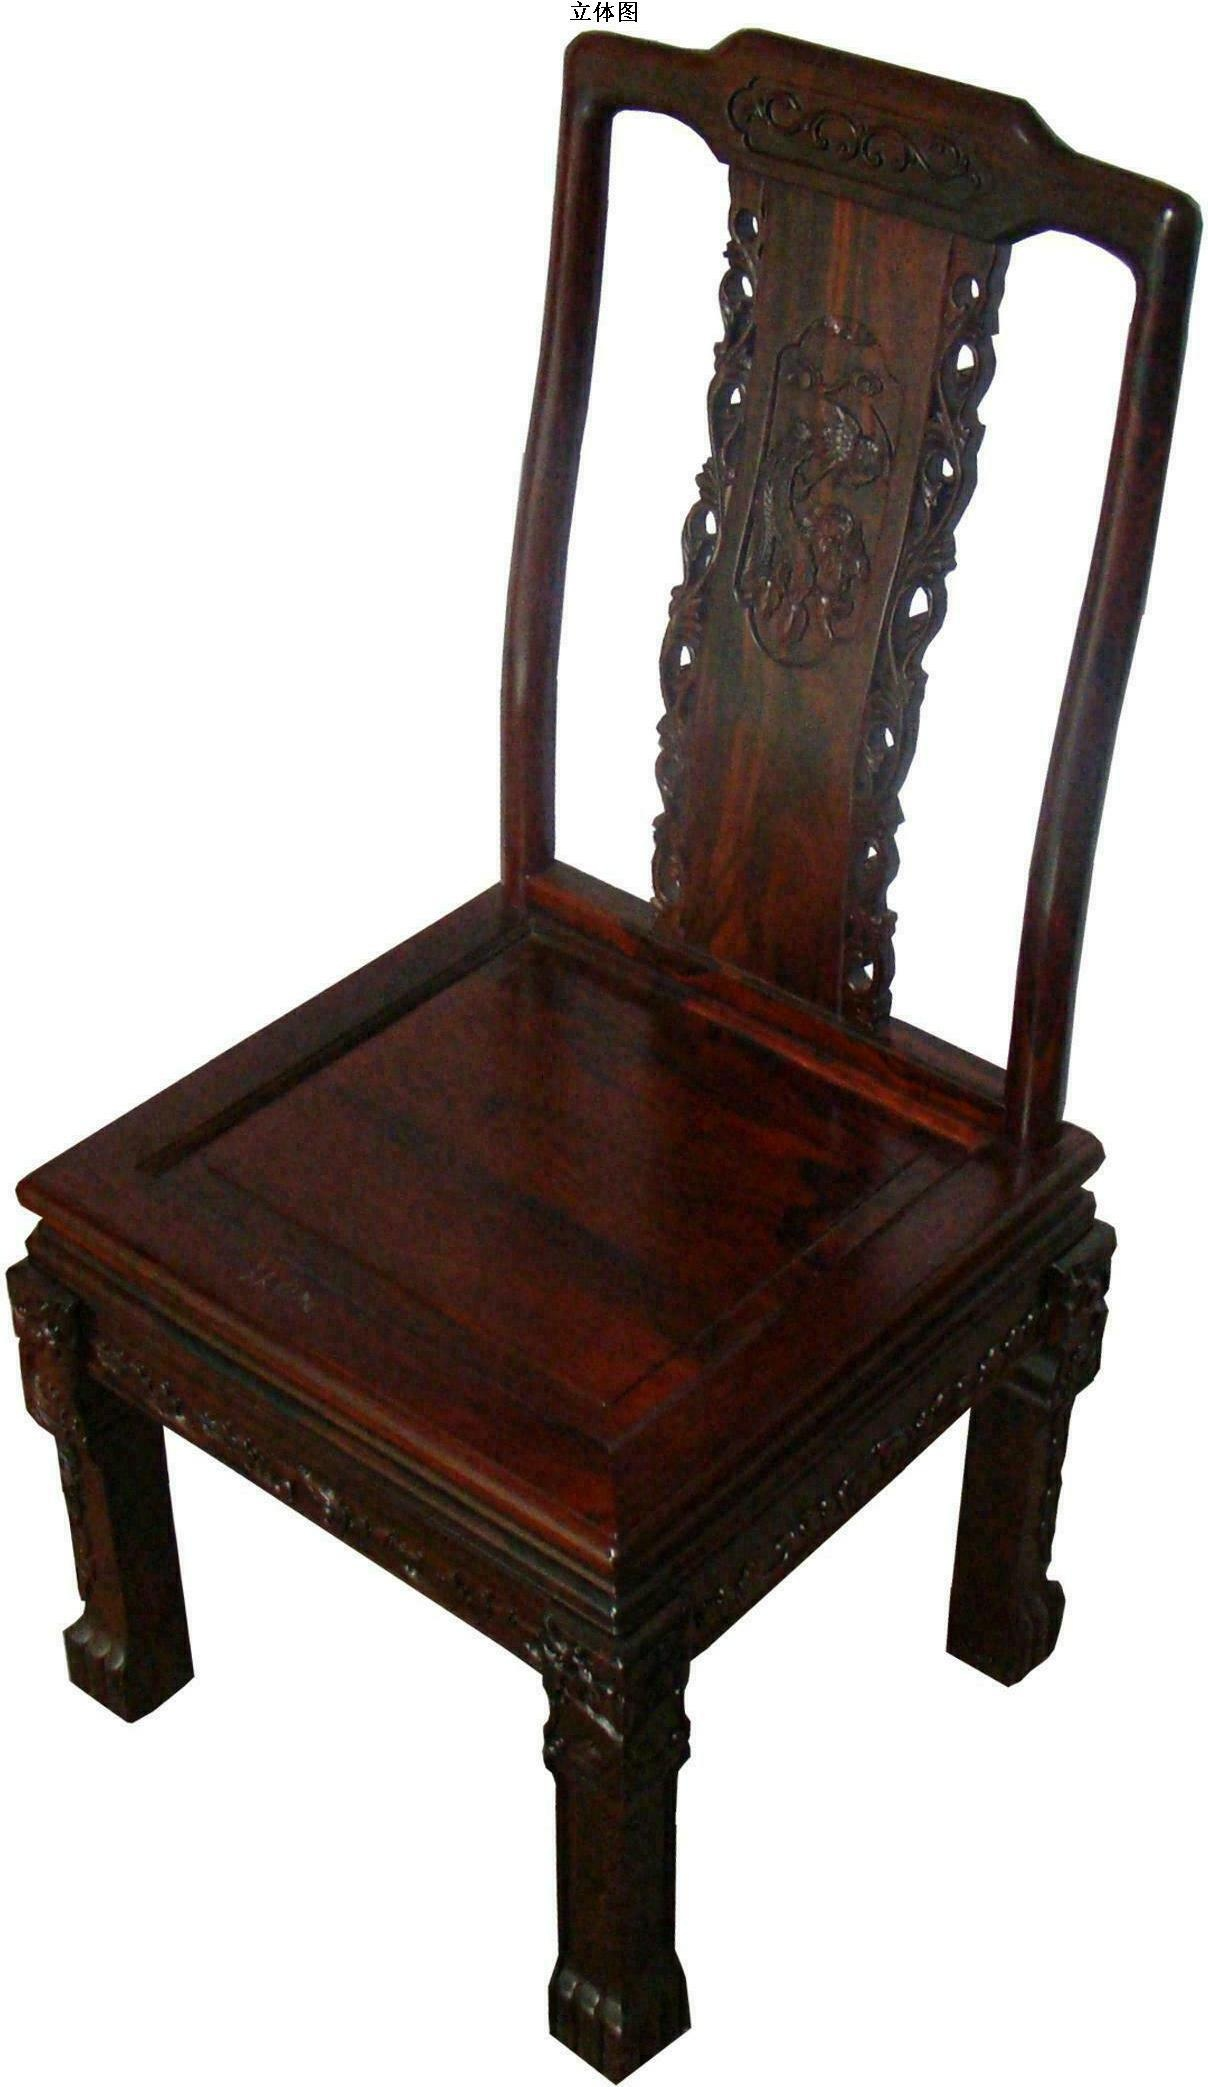obstacle: (627, 280, 1204, 2086), (0, 0, 590, 1262), (4, 1341, 604, 2086), (558, 115, 725, 893), (592, 0, 1204, 195)
